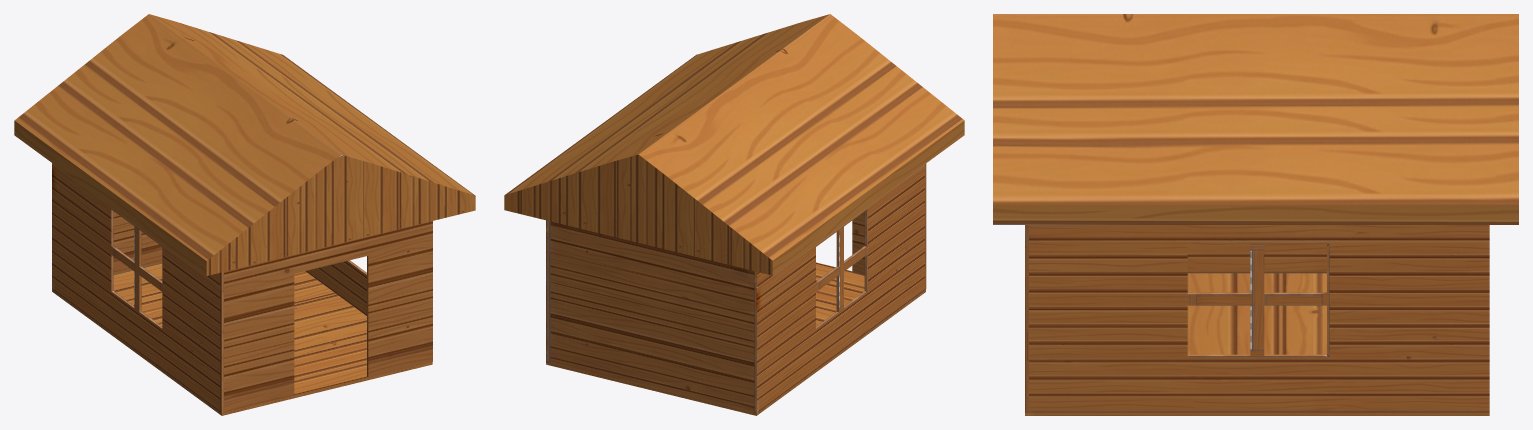
Rendered from Woodhouse.fbx.
3 renders of one model, left to right at view 1: azimuth 30°, elevation 25°; view 2: azimuth 150°, elevation 25°; view 3: azimuth 270°, elevation 25°, orthographic. The views are drawn at different scales.
Visible parts, largest first — view 1: pPlane2, pCube3, pCube2, pCube1, pCube5, pCube4; view 2: pPlane2, pCube4, pCube2, pCube1, pCube3, pCube5; view 3: pPlane2, pCube5, pCube1, pCube2, pCube3.
Boxes of the visible parts, bbox=[...] form: pPlane2: bbox=[14, 14, 475, 275]; pCube3: bbox=[220, 221, 432, 412]; pCube2: bbox=[52, 163, 223, 413]; pCube1: bbox=[52, 263, 432, 415]; pCube5: bbox=[305, 260, 366, 315]; pCube4: bbox=[113, 211, 162, 275]; pPlane2: bbox=[504, 14, 964, 275]; pCube4: bbox=[548, 221, 754, 412]; pCube2: bbox=[754, 164, 924, 413]; pCube1: bbox=[546, 262, 925, 415]; pCube3: bbox=[852, 163, 926, 289]; pCube5: bbox=[546, 220, 548, 362]; pPlane2: bbox=[993, 14, 1518, 224]; pCube5: bbox=[1029, 225, 1489, 412]; pCube1: bbox=[1025, 273, 1489, 415]; pCube2: bbox=[1187, 244, 1326, 273]; pCube3: bbox=[1025, 225, 1028, 412].
Bounding box in the file's own units: 213 × 185 × 264.
5 materials, 5 textured.
